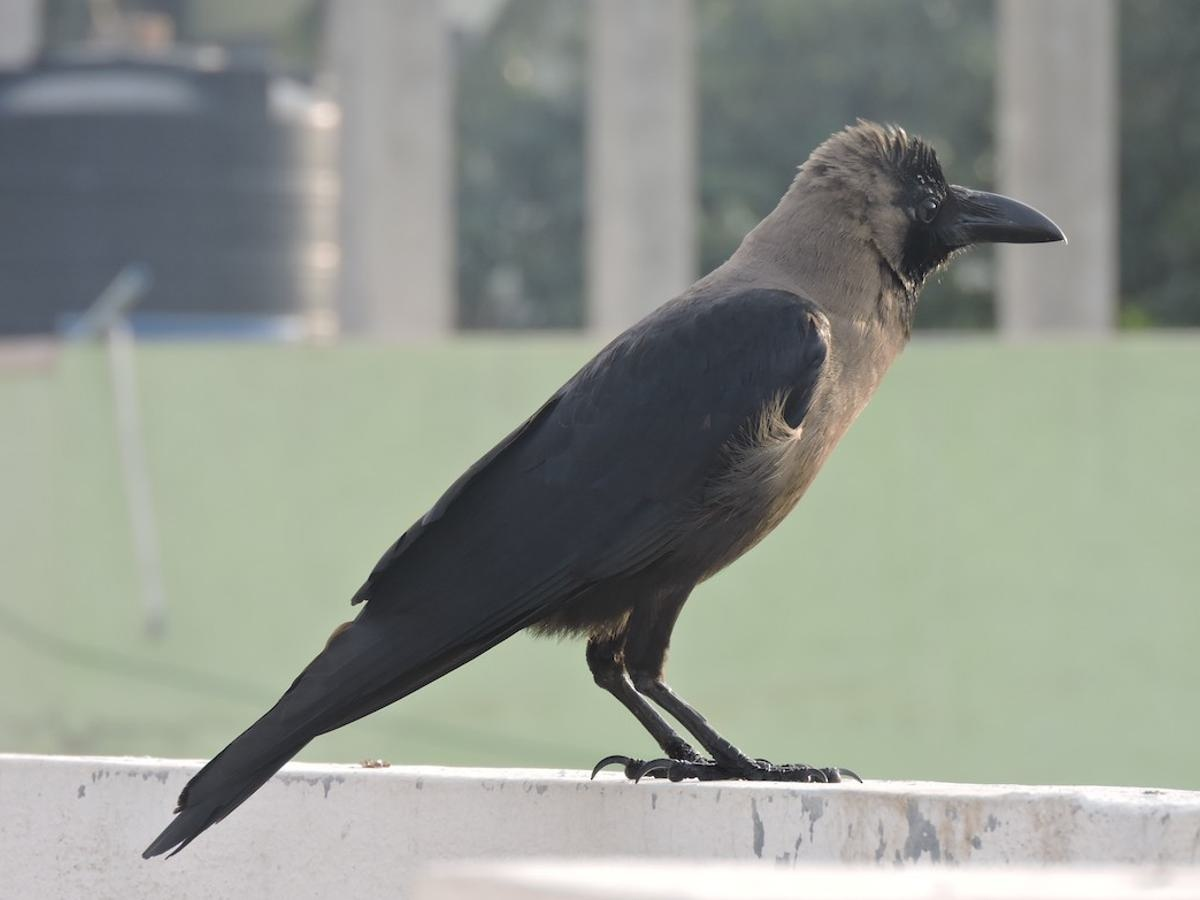crow: (82, 120, 1082, 857)
